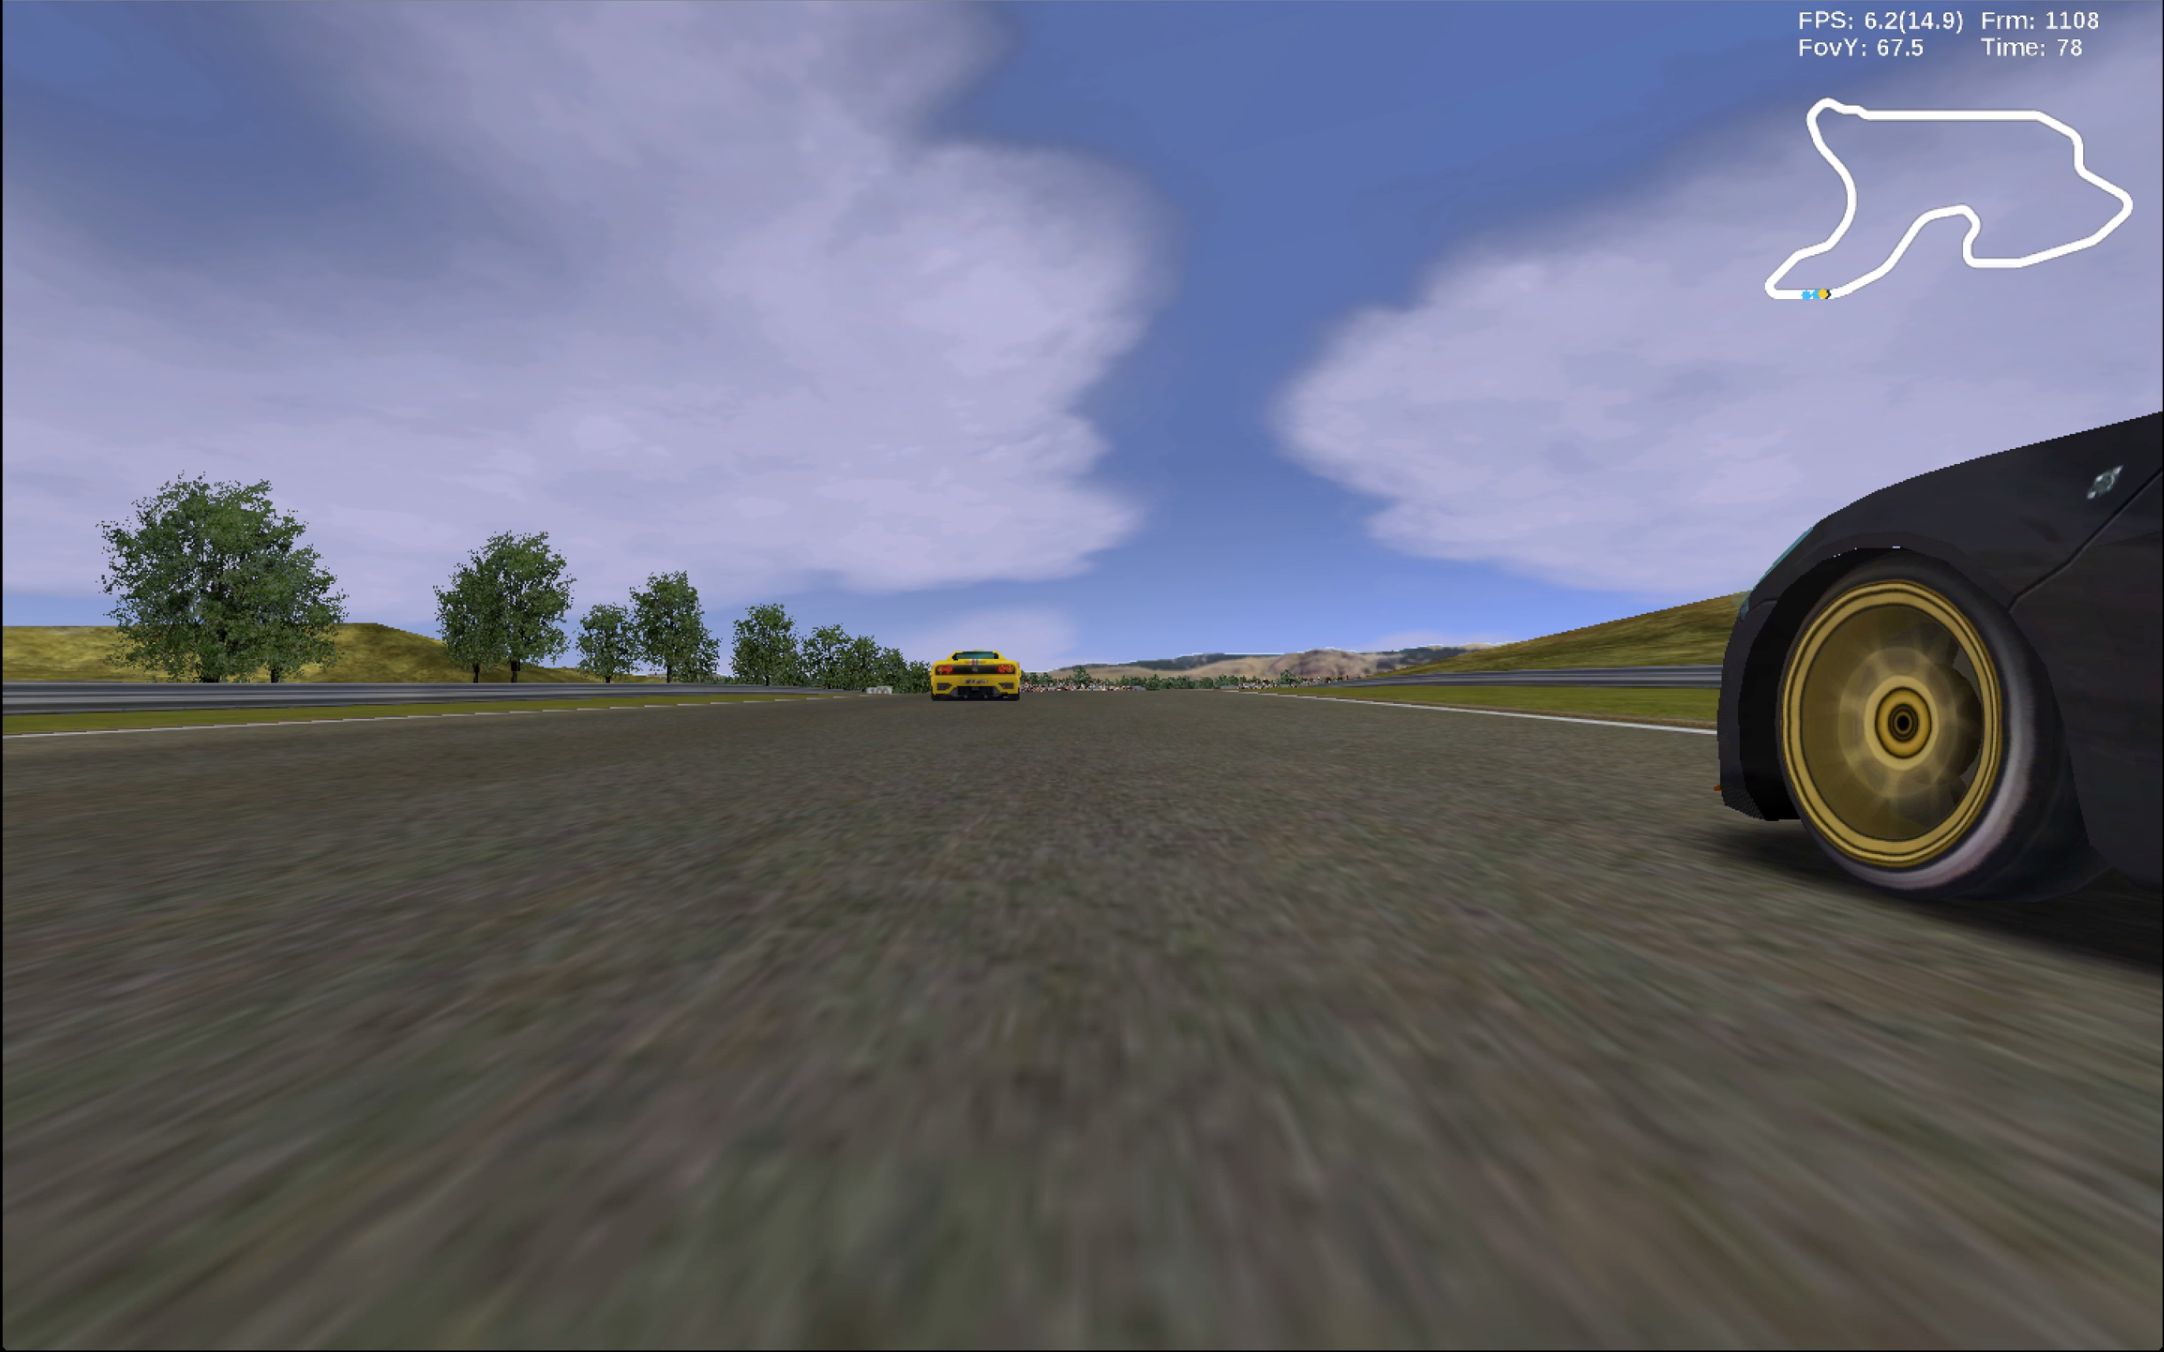Cavallo360: (929, 651, 1021, 702)
Spirit300: (1717, 410, 2164, 908)
